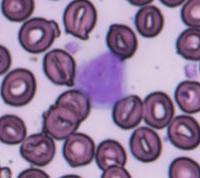M: (74, 50, 128, 108)
